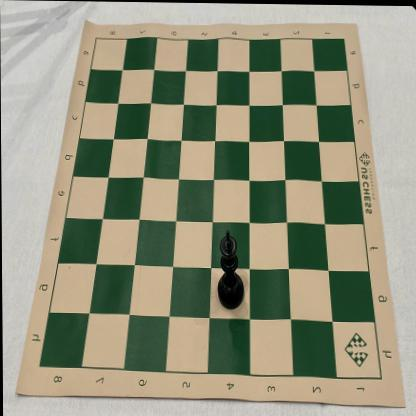black-king: (216, 229, 244, 309)
